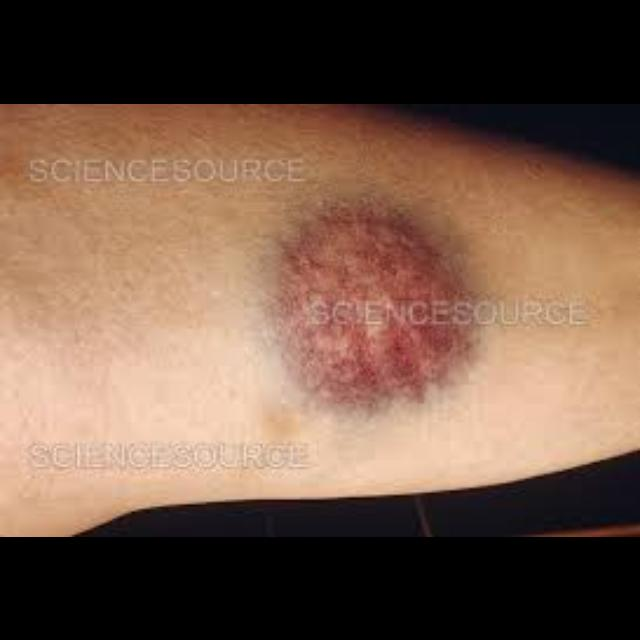scarring: (259, 193, 486, 409)
